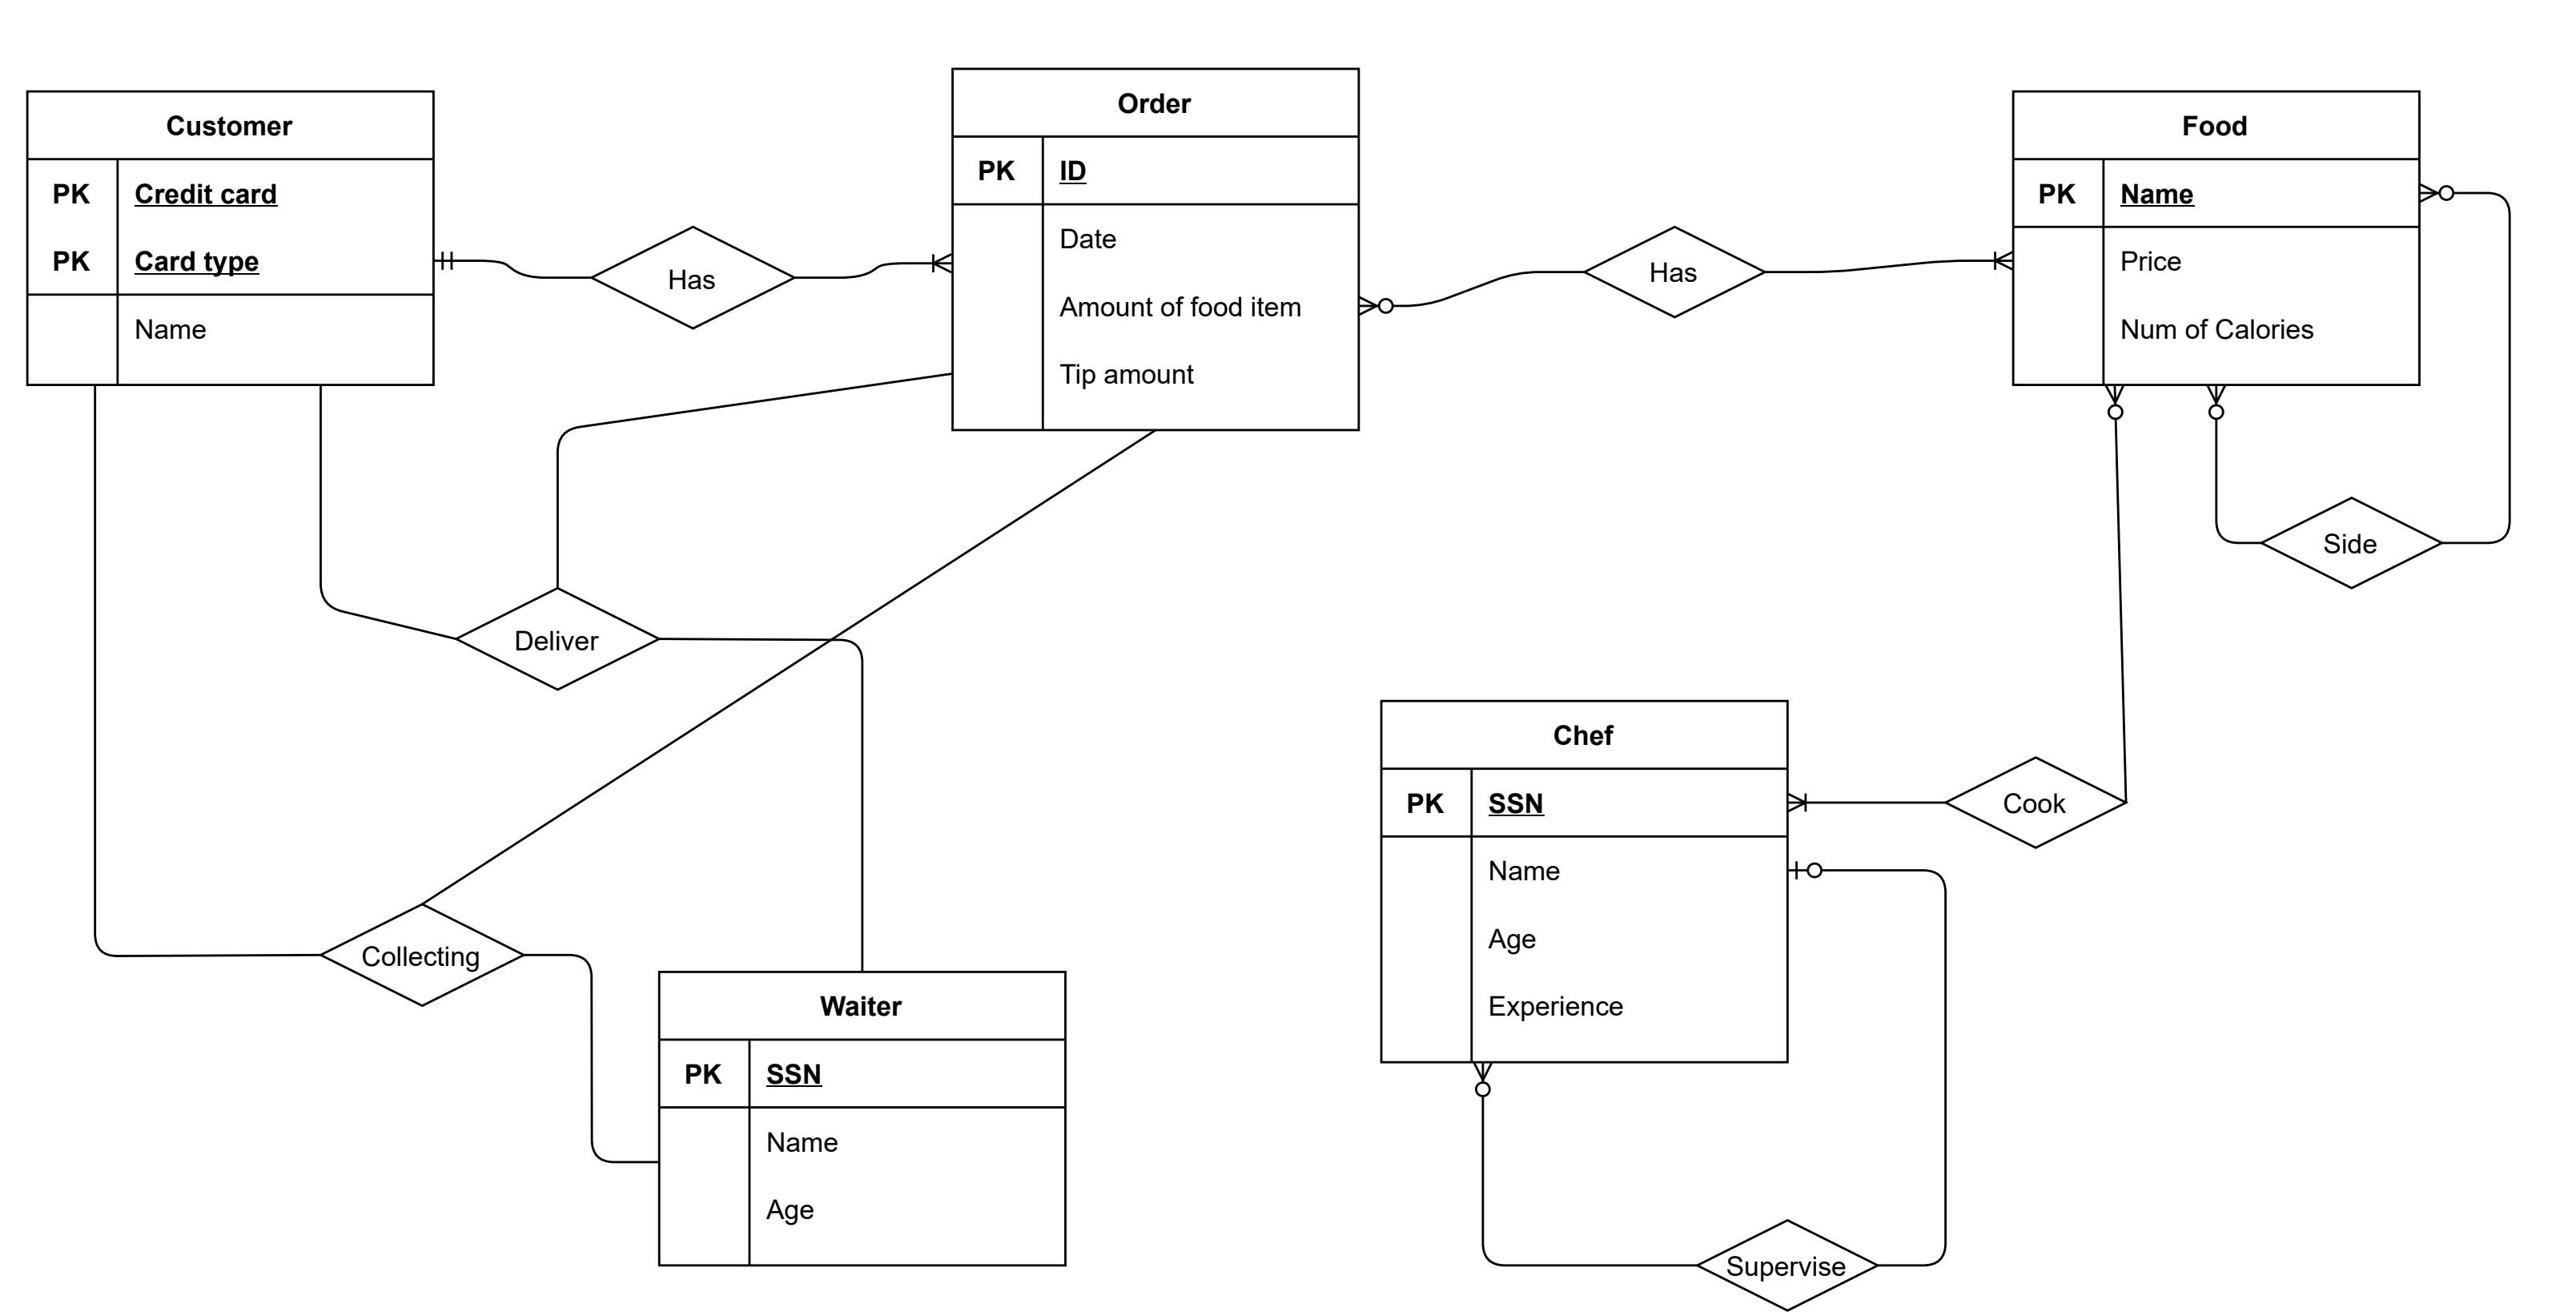Entity: (1377, 698, 1803, 1073), (950, 60, 1365, 438), (2006, 82, 2434, 392), (22, 84, 443, 392), (656, 966, 1071, 1265)
Relationship: (455, 584, 661, 691), (325, 904, 527, 1004), (595, 223, 785, 325), (1949, 753, 2134, 853), (1582, 221, 1771, 318), (2263, 492, 2441, 594), (1699, 1217, 1875, 1312)
